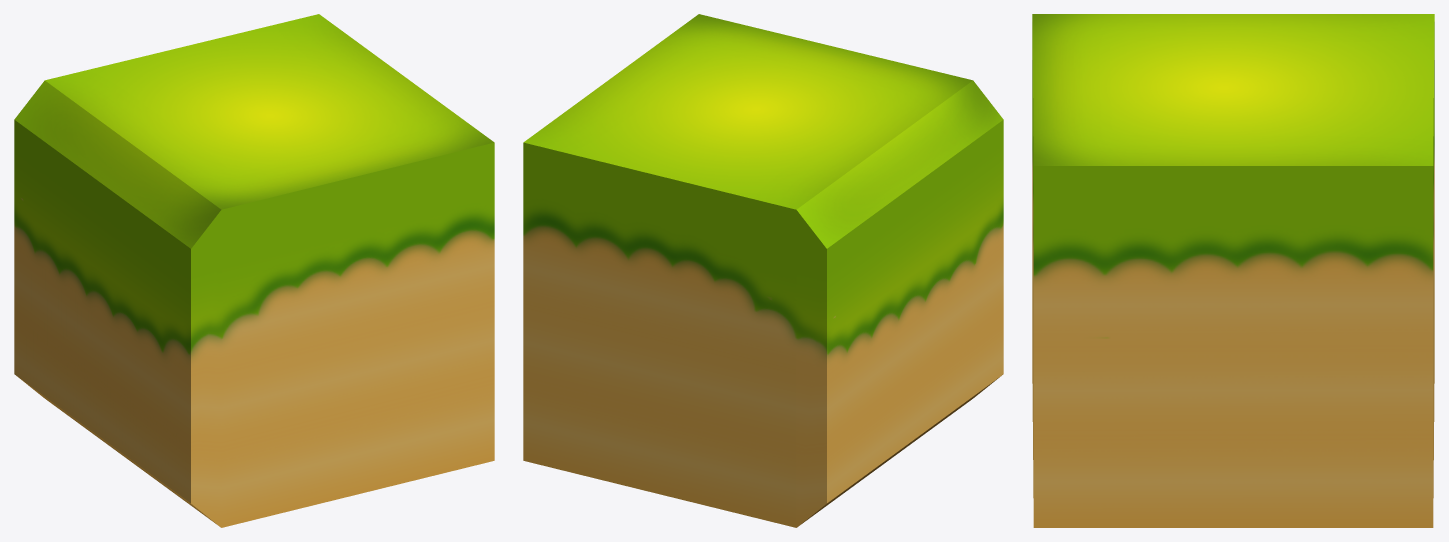
The model's file is green_block_E.fbx.
3 views of the same model, side by side, from view 1: azimuth 30°, elevation 25°; view 2: azimuth 150°, elevation 25°; view 3: azimuth 270°, elevation 25° (orthographic). The views are drawn at different scales.
Visible parts, largest first — view 1: block; view 2: block; view 3: block.
Part boxes in pixels (x1=…): block: x1=14, y1=14, x2=494, y2=527; block: x1=523, y1=14, x2=1003, y2=527; block: x1=1032, y1=14, x2=1434, y2=527.
Bounding box in the file's own units: 100 × 100 × 101.
